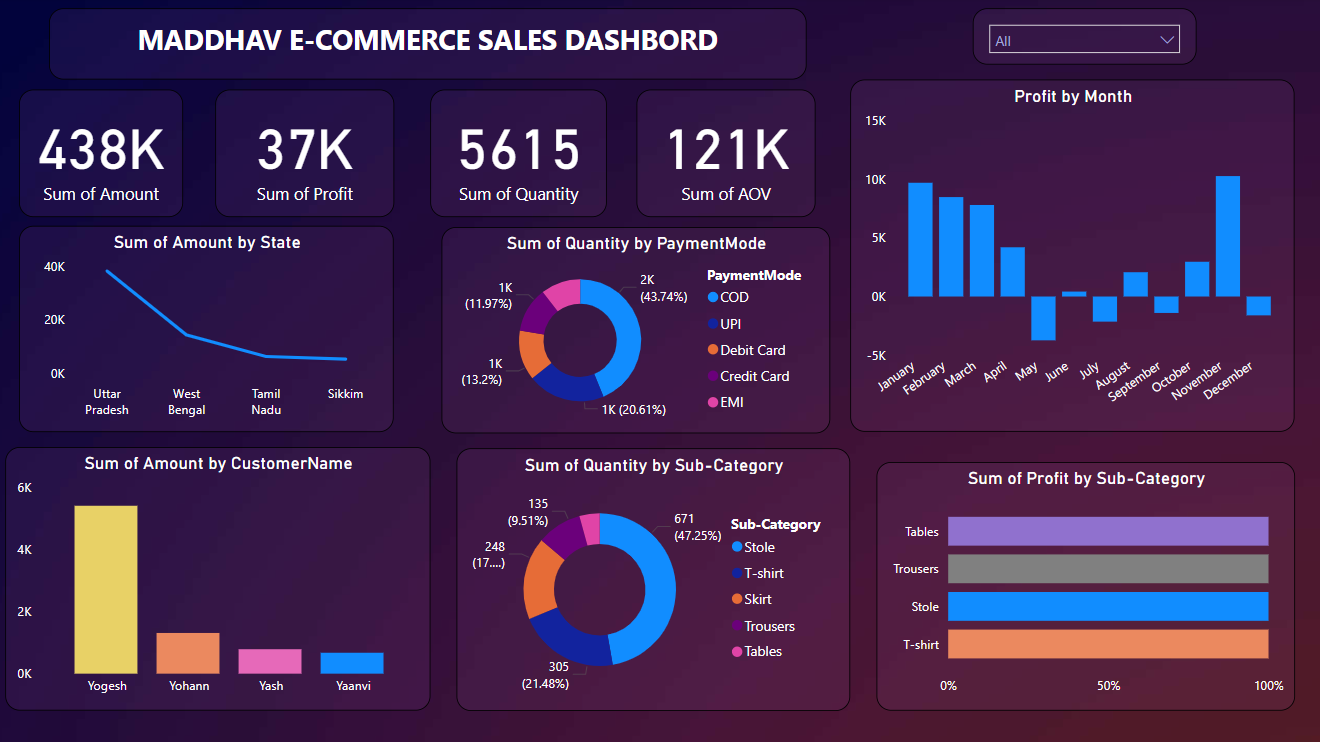

The dashboard page shown, as its layout file describes it:
{"tool":"powerbi","page":{"name":"Madhav E-commerce Sales ","canvas":[1280,720],"ordinal":0},"visuals":[{"type":"columnChart","title":" Profit by Month","fields":{"Category":["Orders.Order Date.Variation.Date Hierarchy.Month"],"Y":["Details.Profit"]},"box":[825.8,80.1,428.9,339.9],"z":0},{"type":"hundredPercentStackedBarChart","fields":{"Category":["Details.Sub-Category"],"Y":["Details.Profit"]},"box":[851.7,448.8,404.2,240.1],"z":1000},{"type":"donutChart","fields":{"Y":["Details.Quantity"],"Category":["Details.Sub-Category"]},"box":[446.4,435.5,380,253.4],"z":2000},{"type":"donutChart","fields":{"Y":["Details.Quantity"],"Category":["Details.PaymentMode"]},"box":[431.9,222,375.2,199.1],"z":3000},{"type":"card","fields":{"Values":["Details.Amount"]},"box":[24.1,89.3,158,123.1],"z":4000},{"type":"card","fields":{"Values":["Details.Profit"]},"box":[213.5,89.3,172.5,123.1],"z":5000},{"type":"card","fields":{"Values":["Details.Quantity"]},"box":[421,89.3,170.1,123.1],"z":6000},{"type":"card","fields":{"Values":["Details.AOV"]},"box":[620.1,89.3,172.5,123.1],"z":7000},{"type":"lineChart","fields":{"Category":["Orders.State"],"Y":["Details.Amount"]},"box":[24.1,220.8,361.9,199.1],"z":8000},{"type":"columnChart","fields":{"Category":["Orders.CustomerName"],"Y":["Details.Amount"]},"box":[10.9,434.3,410.2,254.6],"z":9000},{"type":"slicer","fields":{"Values":["Orders.State"]},"box":[944.6,10.9,216,54.3],"z":10000},{"type":"textbox","box":[53.1,10.9,731.1,68.8],"z":11000}]}

Visuals, with their boxes in screenshot pixels (x1, y1, x2, y2), scaled from the page's 1280x720 canvas onto the 1320x742 screenshot:
" Profit by Month" columnChart: (x1=852, y1=83, x2=1294, y2=433)
hundredPercentStackedBarChart - Details.Sub-Category x Details.Profit: (x1=878, y1=463, x2=1295, y2=710)
donutChart - Details.Quantity x Details.Sub-Category: (x1=460, y1=449, x2=852, y2=710)
donutChart - Details.Quantity x Details.PaymentMode: (x1=445, y1=229, x2=832, y2=434)
card - Details.Amount: (x1=25, y1=92, x2=188, y2=219)
card - Details.Profit: (x1=220, y1=92, x2=398, y2=219)
card - Details.Quantity: (x1=434, y1=92, x2=610, y2=219)
card - Details.AOV: (x1=639, y1=92, x2=817, y2=219)
lineChart - Orders.State x Details.Amount: (x1=25, y1=228, x2=398, y2=433)
columnChart - Orders.CustomerName x Details.Amount: (x1=11, y1=448, x2=434, y2=710)
slicer - Orders.State: (x1=974, y1=11, x2=1197, y2=67)
textbox: (x1=55, y1=11, x2=809, y2=82)
